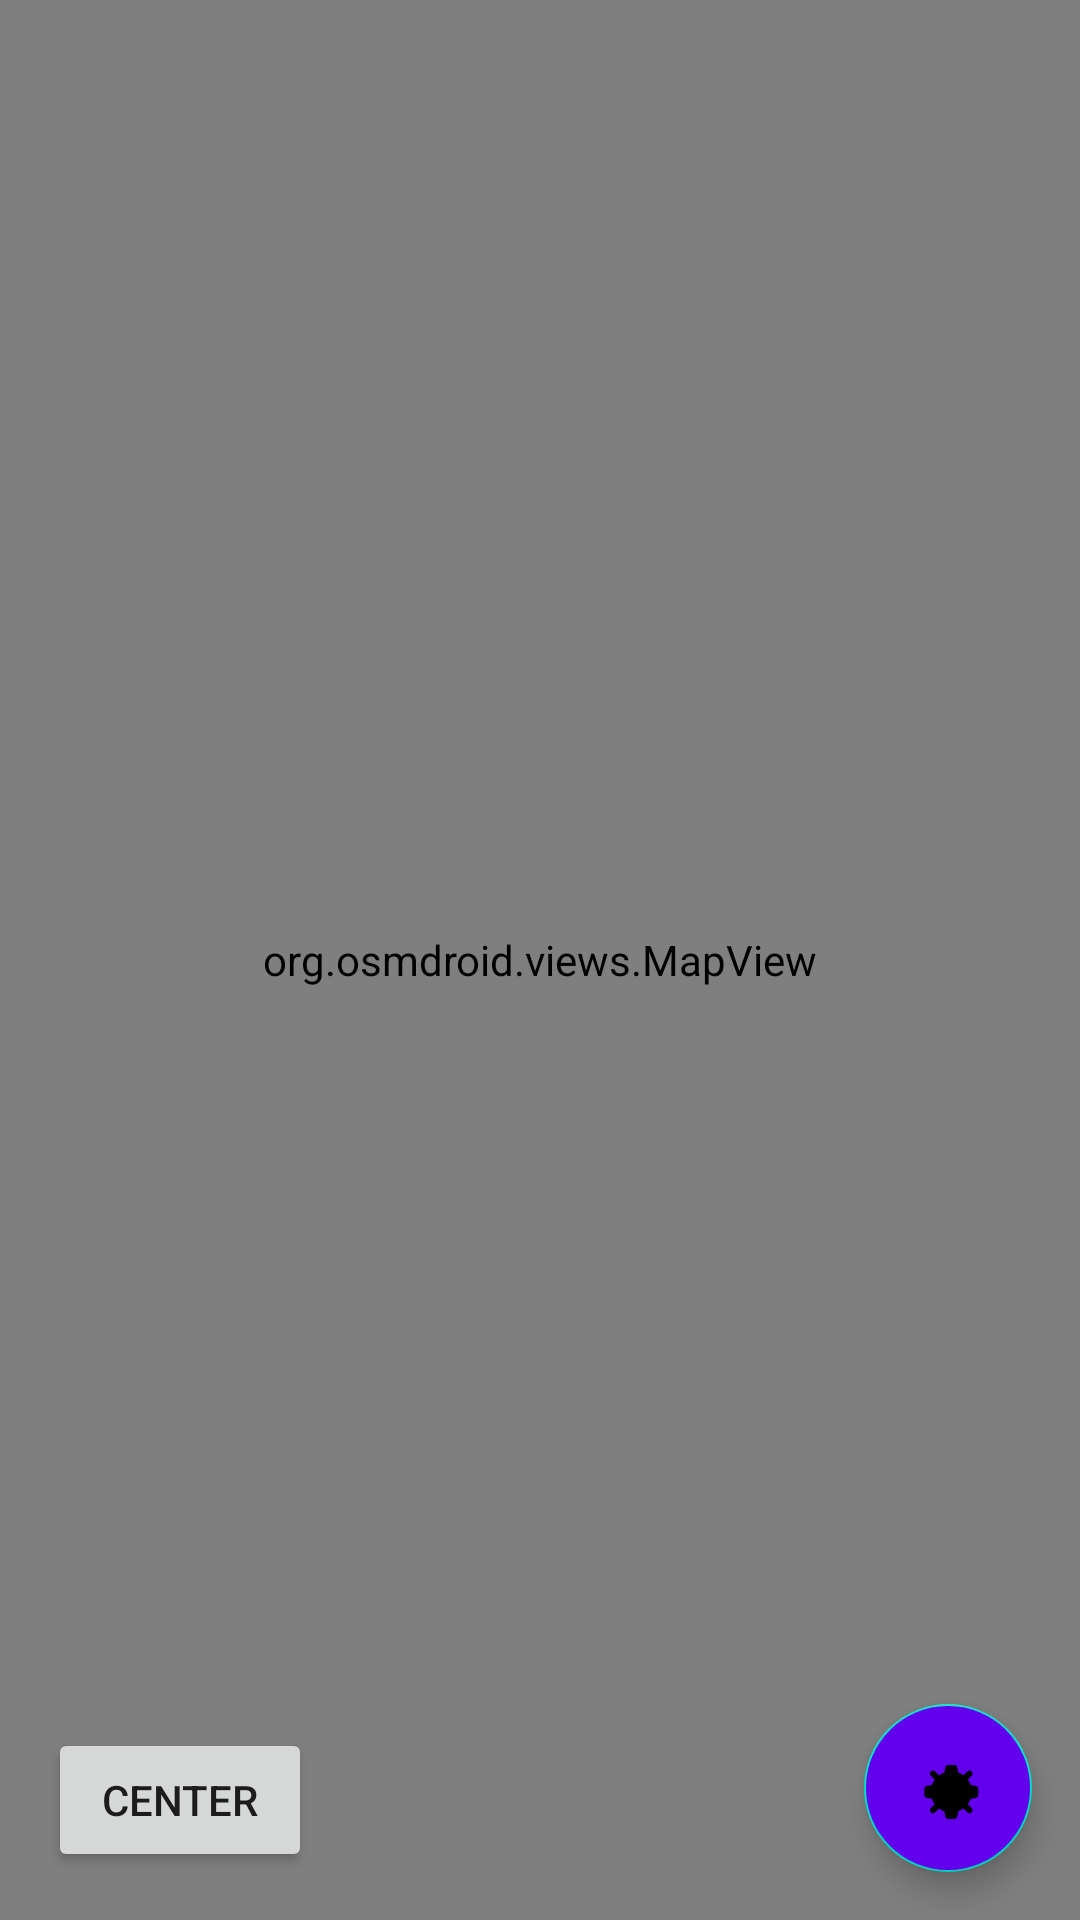

Where to tap for icons on this 1080×1920 app screen, as point (x, y):
Settings Button: point (948, 1788)
